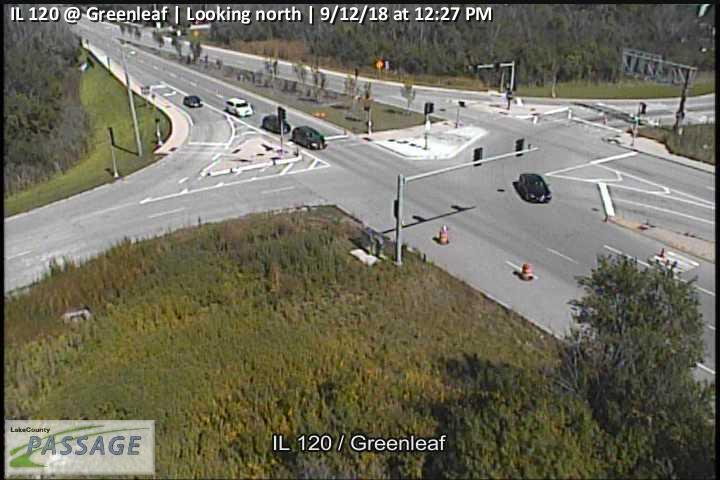SUV: (292, 125, 326, 150), (224, 97, 253, 117), (262, 115, 291, 134)
Sedan: (519, 173, 552, 203), (184, 95, 203, 108)
